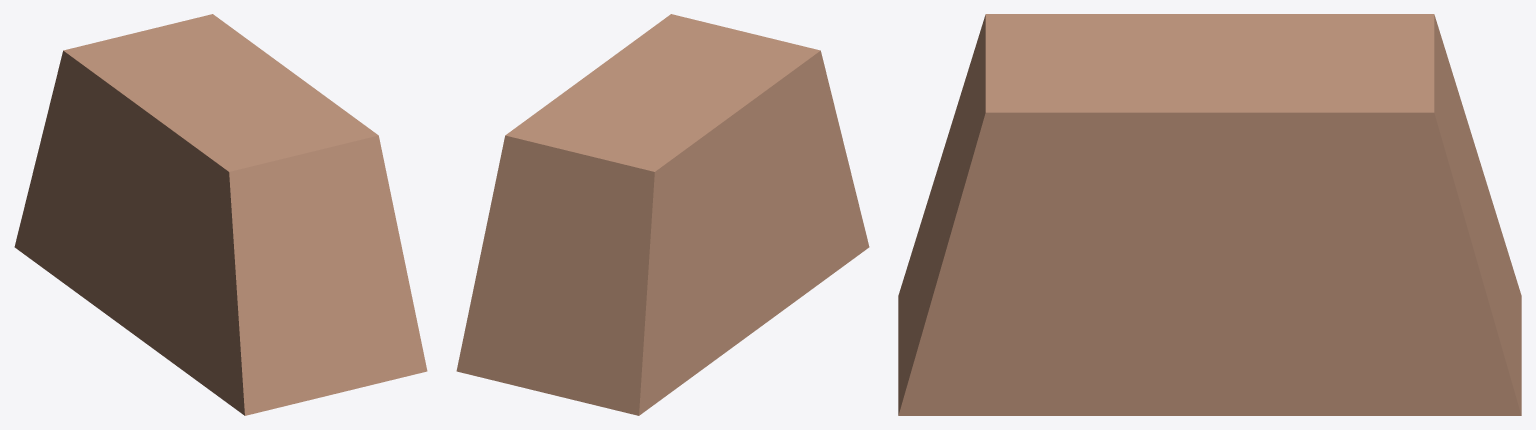
File: wk_buck_heavy_foot_v01.glb
3 views of the same model, side by side, from view 1: azimuth 30°, elevation 25°; view 2: azimuth 150°, elevation 25°; view 3: azimuth 270°, elevation 25° (orthographic). The views are drawn at different scales.
Visible parts, largest first — view 1: GEO_Foot.002; view 2: GEO_Foot.002; view 3: GEO_Foot.002.
Part boxes in pixels (left/top/right/bottom): GEO_Foot.002: left=14, top=14, right=427, bottom=415; GEO_Foot.002: left=456, top=14, right=869, bottom=415; GEO_Foot.002: left=898, top=14, right=1521, bottom=415.
Bounding box in the file's own units: 0.128 × 0.145 × 0.28.
